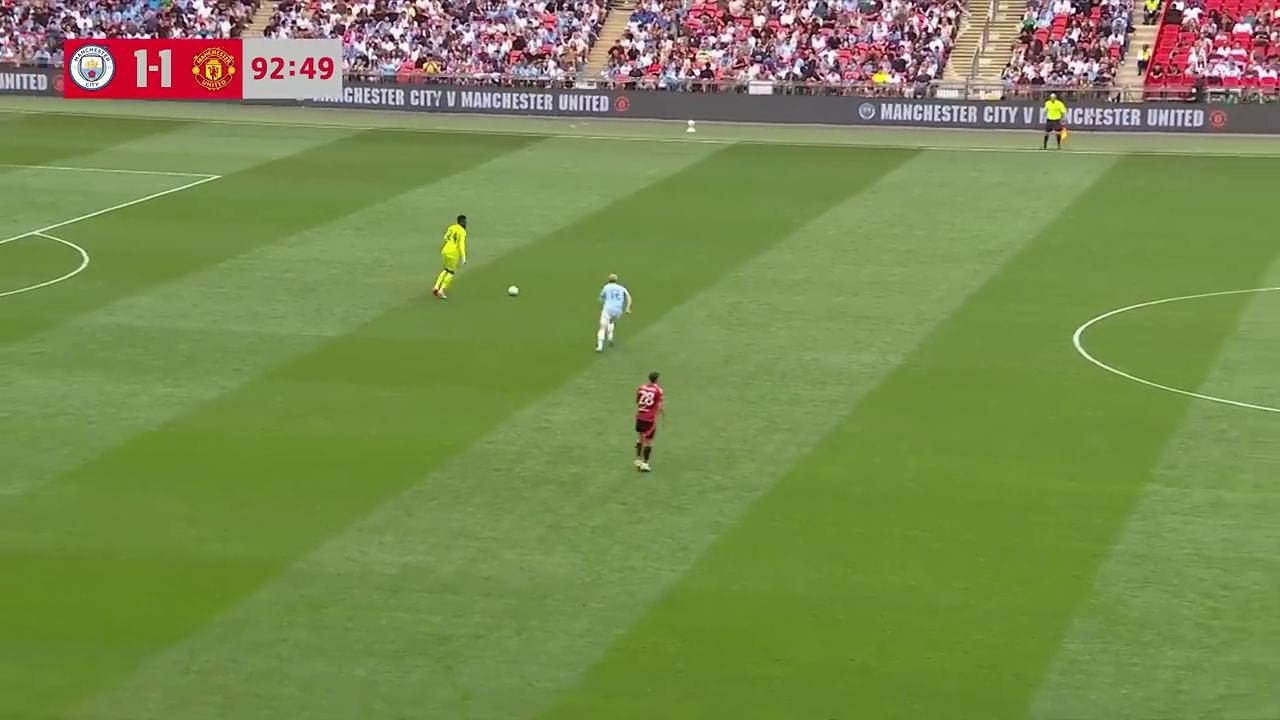ball: (504, 281, 520, 297)
player: (432, 211, 474, 299), (633, 371, 665, 472), (595, 272, 631, 351)
referee: (1042, 100, 1068, 151)
